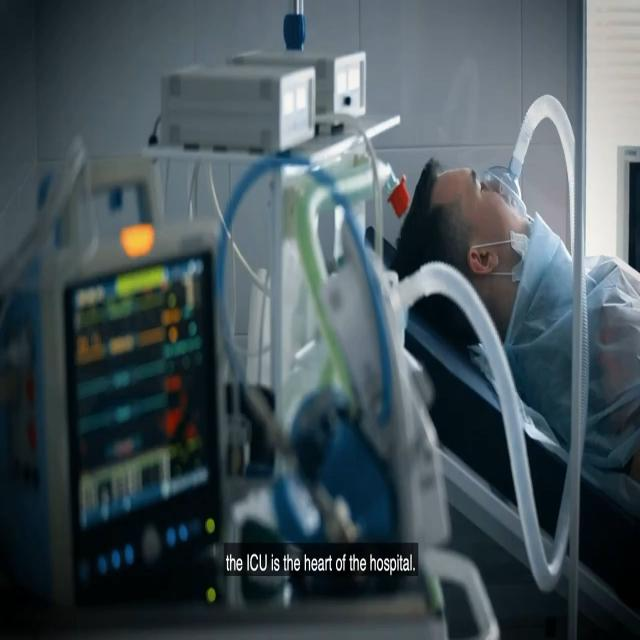Movement-NO: (394, 75, 604, 374)
